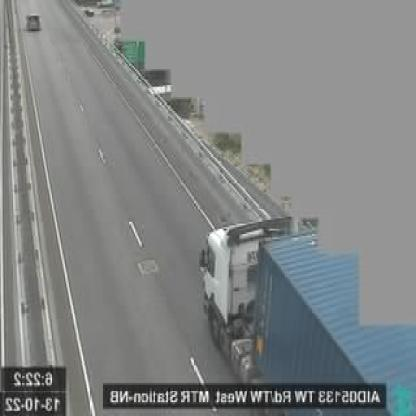Car: (27, 13, 41, 33)
Truck: (199, 224, 416, 406)
